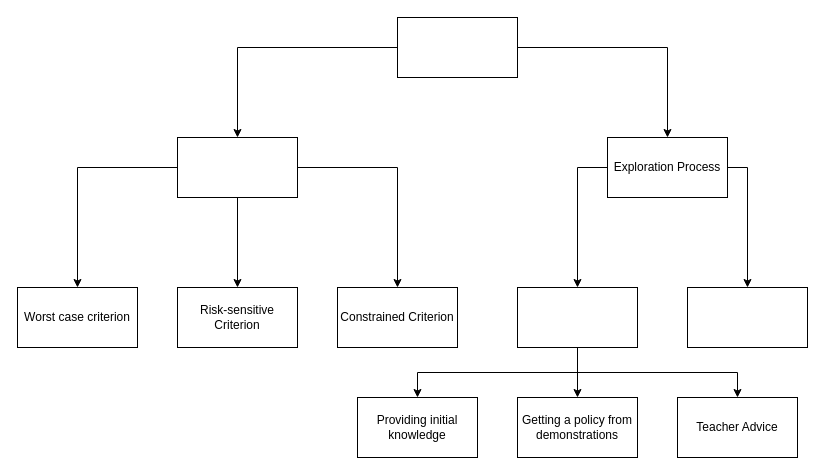
This 825x475 diagram has some shape labels left out. Here are the shapes that lost their labels. From the top down, the centre of each, then its label:
At pixel 457 47: "Safe Reinforcement Learning".
At pixel 237 167: "Optimization Criterion".
At pixel 577 317: "External knowledge".
At pixel 747 317: "Risk-directed Exploration".
